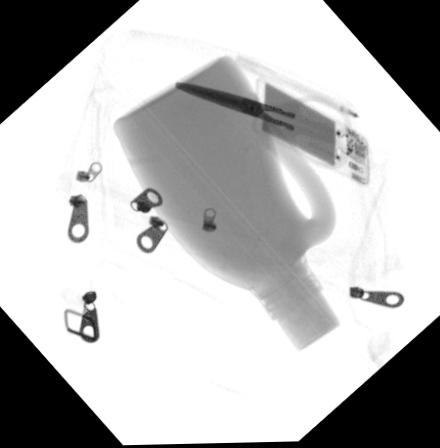Powerbank: (253, 76, 369, 189)
Scissors: (173, 81, 355, 174)
